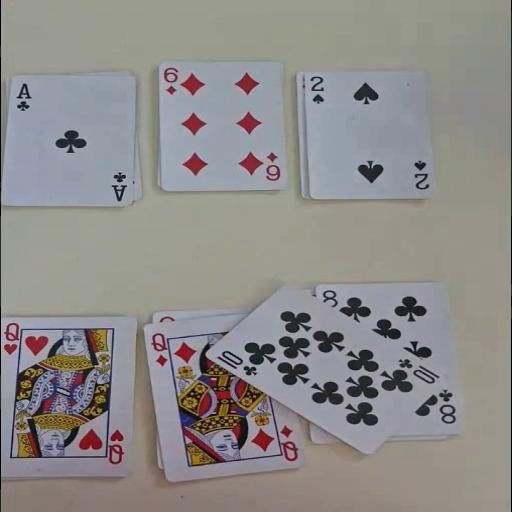10: (395, 356, 443, 385), (213, 348, 260, 377), (276, 423, 301, 462)
2: (411, 158, 431, 190), (308, 74, 326, 104)
6: (160, 65, 180, 96), (263, 150, 282, 182)
8: (436, 387, 458, 425), (320, 288, 340, 310)
A: (108, 170, 128, 202), (12, 81, 32, 112)
Q: (276, 424, 300, 462), (147, 330, 169, 368), (105, 427, 126, 465), (2, 320, 21, 357)
